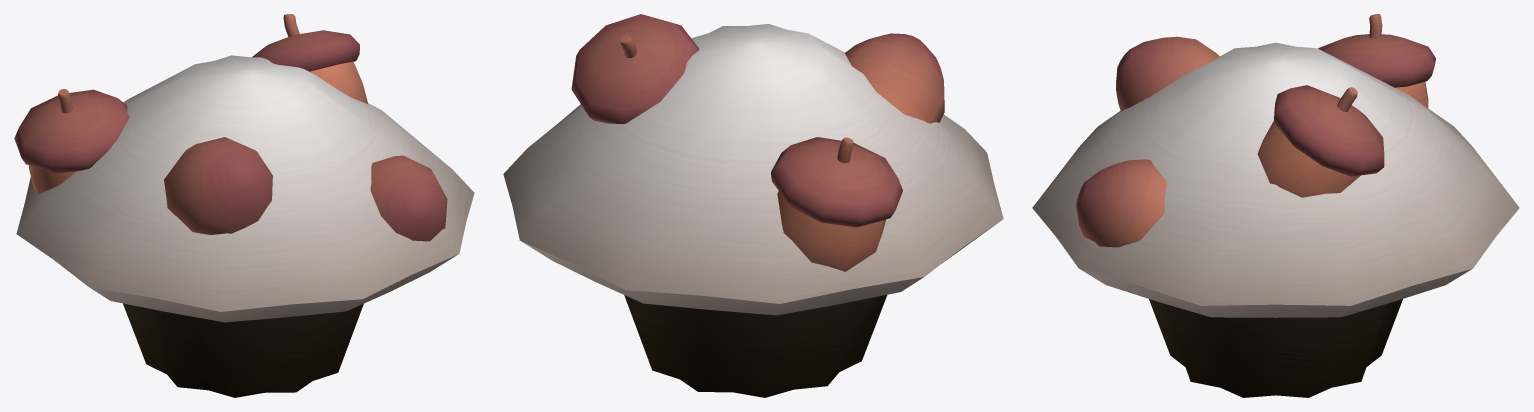
File: muckmuffin.fbx
3 renders of one model, left to right at view 1: azimuth 30°, elevation 25°; view 2: azimuth 150°, elevation 25°; view 3: azimuth 270°, elevation 25°, orthographic. The views are drawn at different scales.
Visible parts, largest first — view 1: muckmuffin; view 2: muckmuffin; view 3: muckmuffin.
Part boxes in pixels (box(x1,y1,x2,y2)): muckmuffin: box(14, 14, 474, 397); muckmuffin: box(503, 14, 1003, 397); muckmuffin: box(1032, 14, 1519, 397).
Size of the model in its own units: 40.95 by 30.02 by 43.06.
